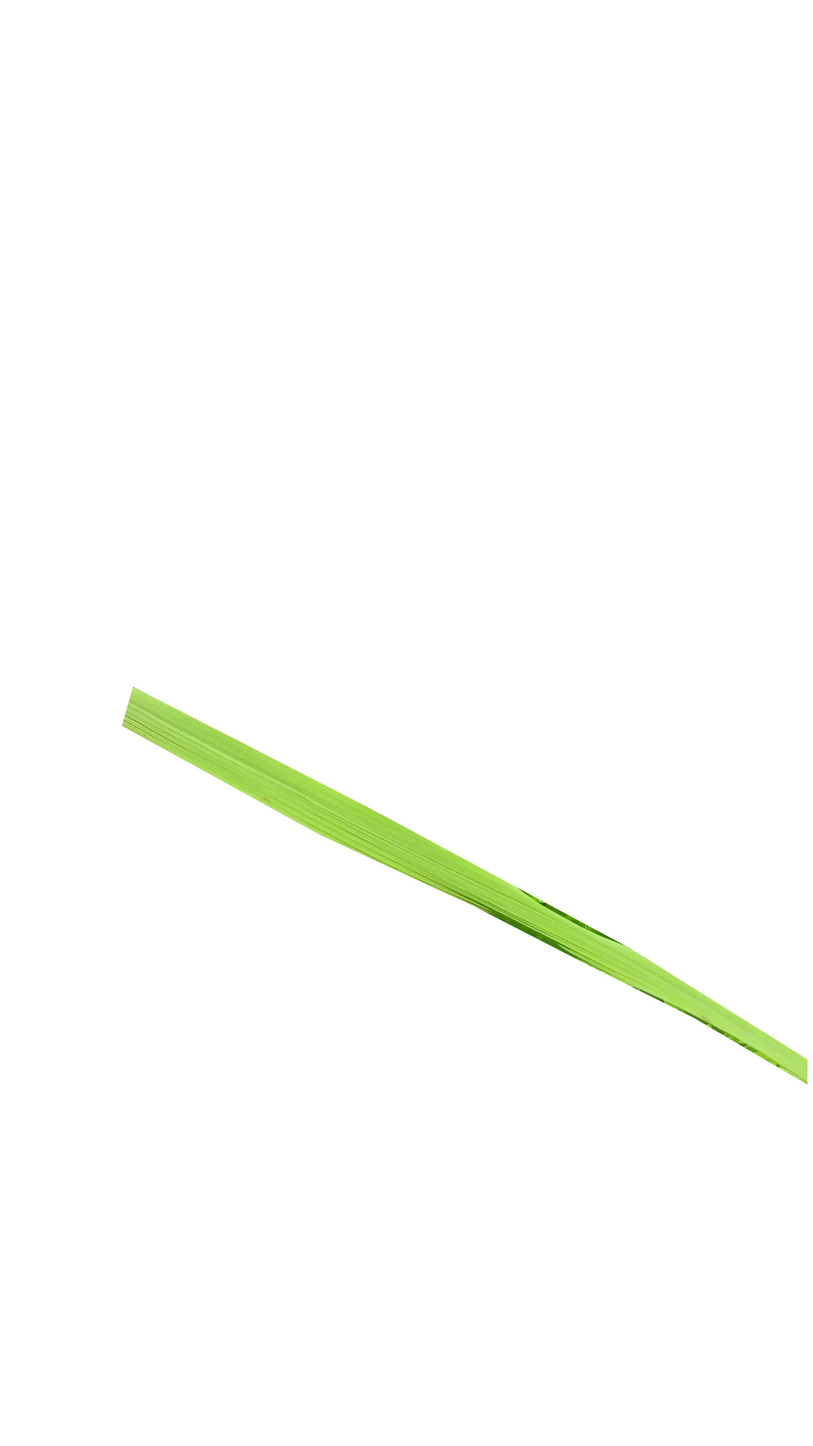Tungro: (120, 689, 813, 1089)
